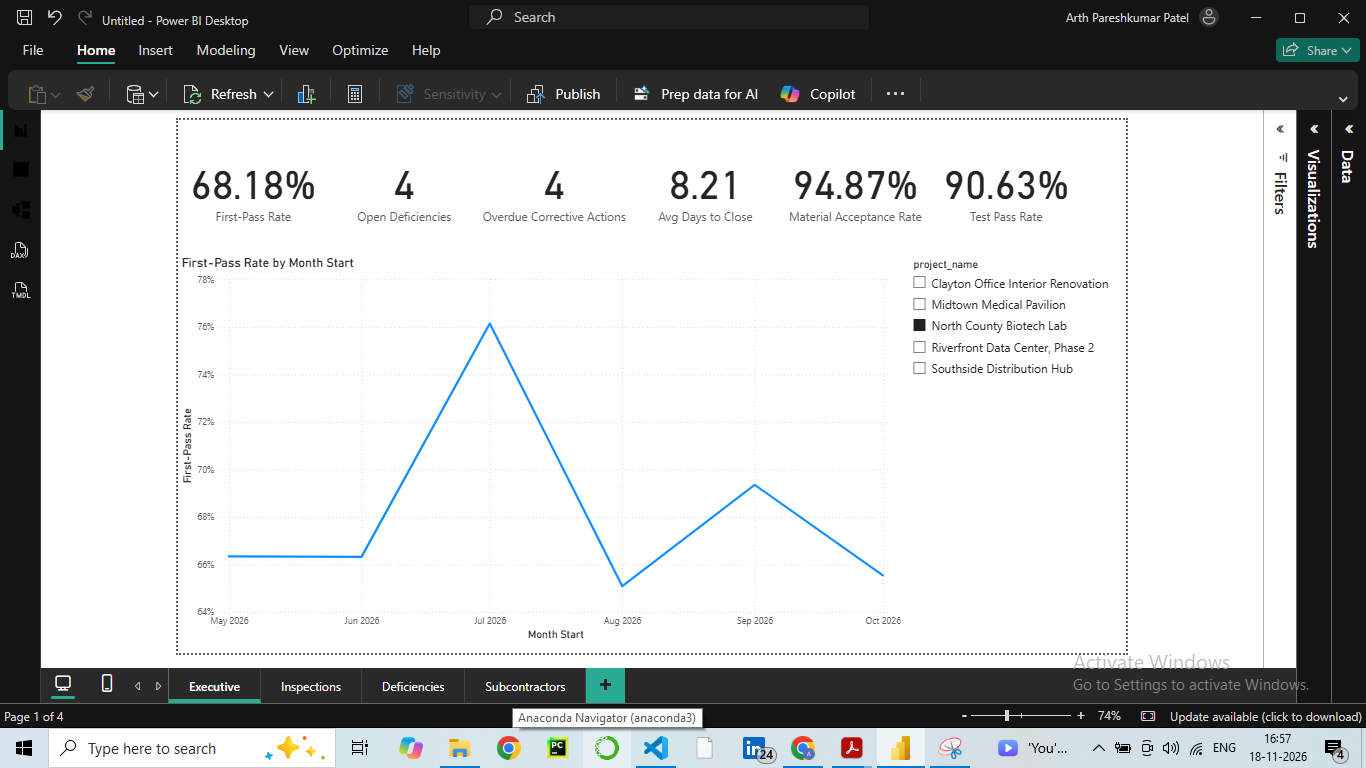

What the dashboard file says about the page in this screenshot:
{"tool":"powerbi","page":{"name":"Executive","canvas":[1280,720],"ordinal":0},"visuals":[{"type":"card","fields":{"Values":["inspections.First-Pass Rate"]},"box":[0,0,203.4,182.6],"z":0},{"type":"card","fields":{"Values":["inspections.Open Deficiencies"]},"box":[203.4,0,203.4,182.6],"z":1000},{"type":"card","fields":{"Values":["inspections.Overdue Corrective Actions"]},"box":[406.9,0,203.4,182.6],"z":2000},{"type":"card","fields":{"Values":["inspections.Avg Days to Close"]},"box":[610.3,0,203.4,182.6],"z":3000},{"type":"card","fields":{"Values":["inspections.Material Acceptance Rate"]},"box":[813.7,0,203.4,182.6],"z":4000},{"type":"card","fields":{"Values":["inspections.Test Pass Rate"]},"box":[1017.2,0,203.4,182.6],"z":5000},{"type":"lineChart","fields":{"Category":["Calendar.Month Start"],"Y":["inspections.First-Pass Rate"]},"box":[0,182.6,981.5,525.7],"z":6000},{"type":"slicer","fields":{"Values":["projects.project_name"]},"box":[981.5,182.6,298.5,176.7],"z":7000}]}

Visuals, with their boxes on the page's 1280x720 design canvas (x1, y1, x2, y2). These are canvas units, not pixel positions in the 1366x768 screenshot, which may show the page scaled, cropped or inside an application window:
card - inspections.First-Pass Rate: <region>0, 0, 203, 183</region>
card - inspections.Open Deficiencies: <region>203, 0, 407, 183</region>
card - inspections.Overdue Corrective Actions: <region>407, 0, 610, 183</region>
card - inspections.Avg Days to Close: <region>610, 0, 814, 183</region>
card - inspections.Material Acceptance Rate: <region>814, 0, 1017, 183</region>
card - inspections.Test Pass Rate: <region>1017, 0, 1221, 183</region>
lineChart - Calendar.Month Start x inspections.First-Pass Rate: <region>0, 183, 982, 708</region>
slicer - projects.project_name: <region>982, 183, 1280, 359</region>
